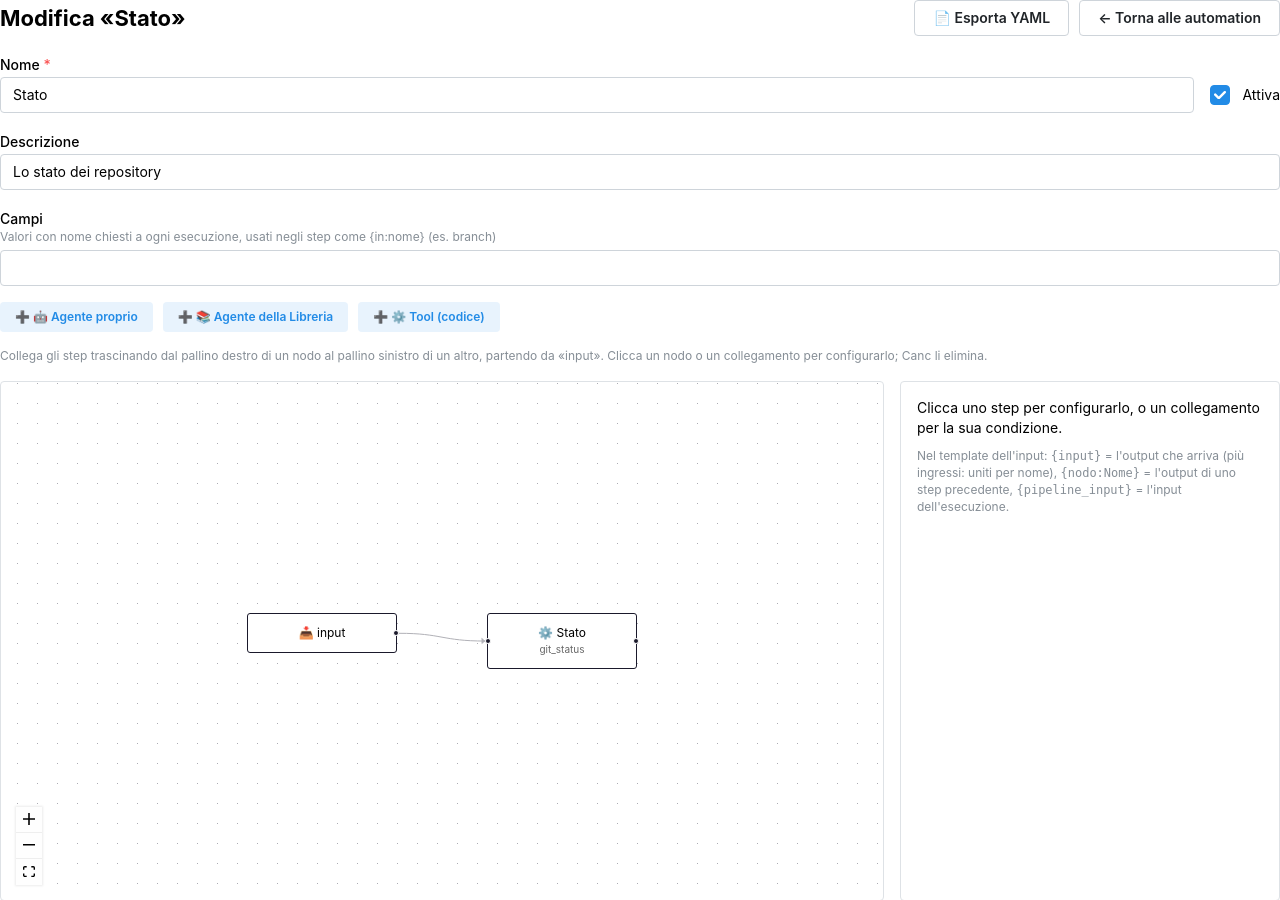
Test: «Esporta YAML» › shows the saved automation in the definitions' format
The image size is (1280, 900).
Step 1. Click the button "📄 Esporta YAML" → (992, 18), box [914,0,1069,36]
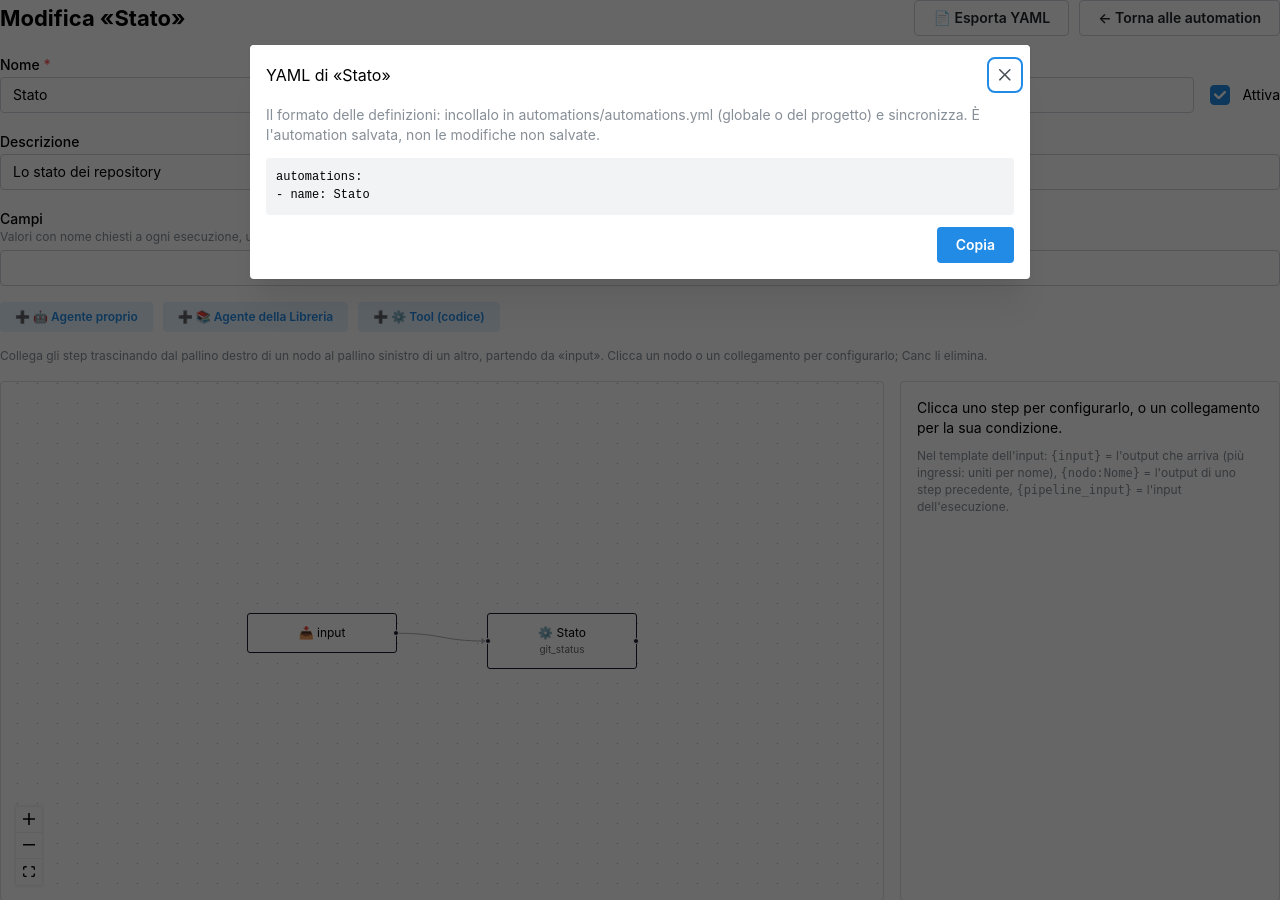
Expected: the text "automations: - name: Stato" is shown, [266,158,1014,215]
Expected: the button "Copia" is shown, [937,227,1014,263]
